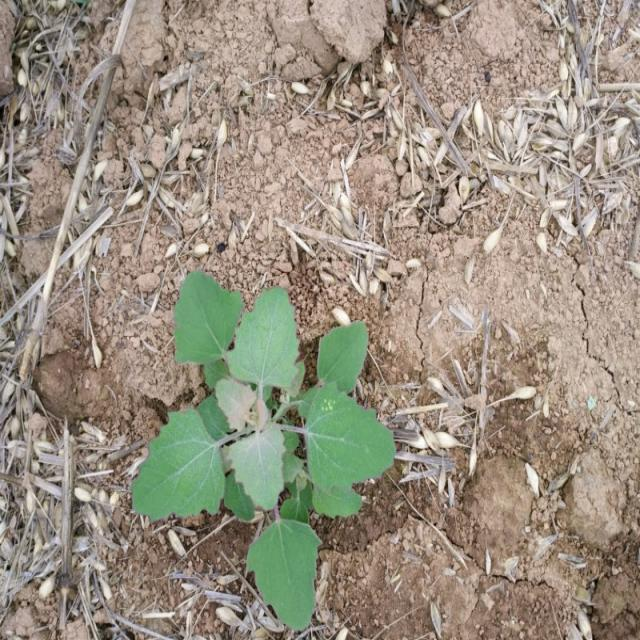ca: (130, 271, 396, 633)
